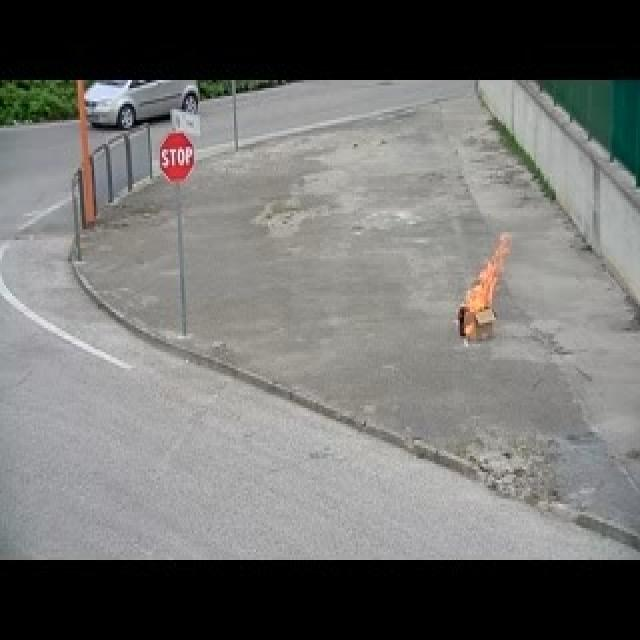fire: (464, 249, 500, 310)
